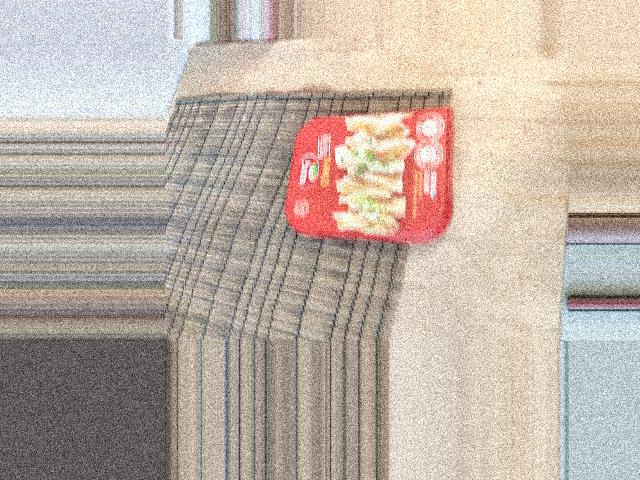cheese: (271, 162, 400, 344)
